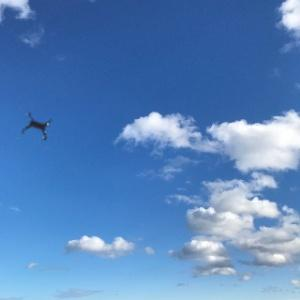drone: (2, 94, 74, 166)
